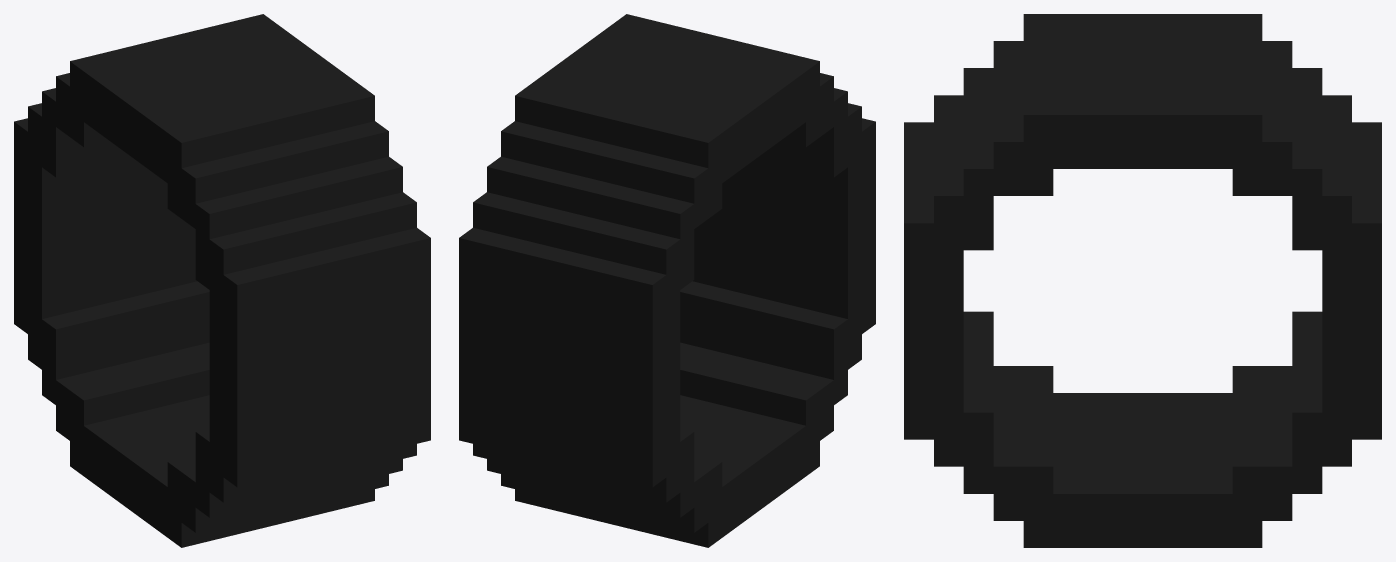
File: zoomed_cs_527.obj
The picture shows the model from 3 angles, left to right: view 1: azimuth 30°, elevation 25°; view 2: azimuth 150°, elevation 25°; view 3: azimuth 270°, elevation 25°; orthographic projection. The views are drawn at different scales.
Bounding box in the file's own units: 0.8 × 1.6 × 1.6.
Materials: 1 (1 with a texture image).
